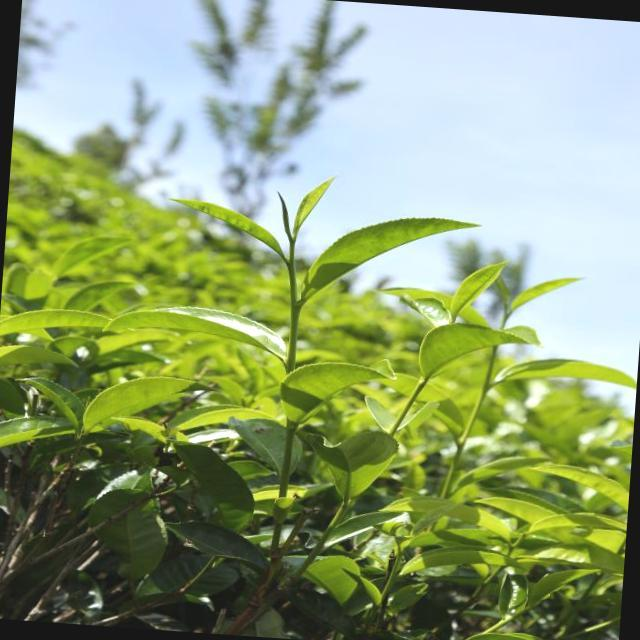Stem: (503, 314, 510, 320), (290, 240, 295, 247), (509, 546, 515, 551)
